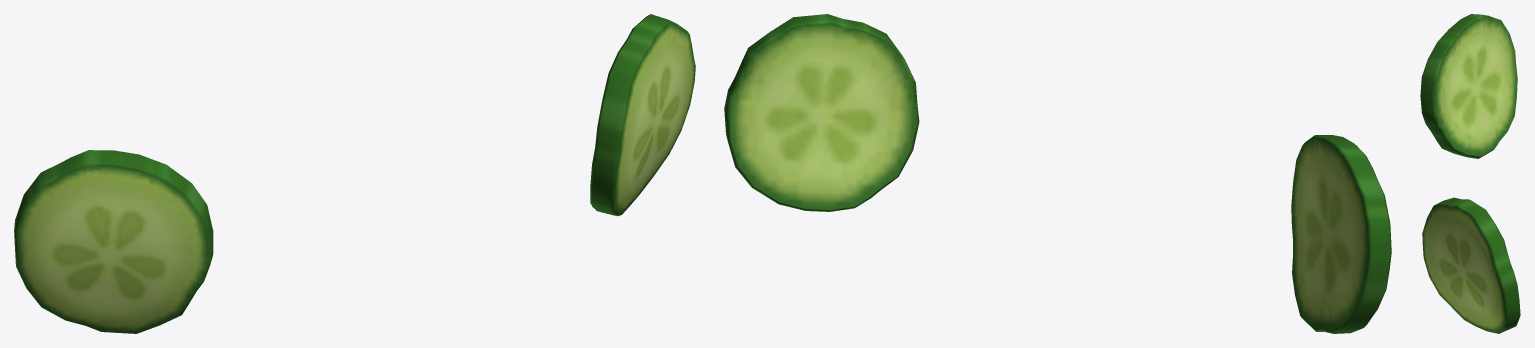
File: AccessoryMouthCucumber.glb
The picture shows the model from 3 angles, left to right: view 1: azimuth 30°, elevation 25°; view 2: azimuth 150°, elevation 25°; view 3: azimuth 270°, elevation 25°; orthographic projection. The views are drawn at different scales.
Parts seen in each view (by area): view 1: Accessory__mAccessory; view 2: Accessory__mAccessory; view 3: Accessory__mAccessory.
Boxes of the visible parts, x1=… form: Accessory__mAccessory: x1=14, y1=14, x2=695, y2=333; Accessory__mAccessory: x1=724, y1=14, x2=1391, y2=333; Accessory__mAccessory: x1=1420, y1=14, x2=1520, y2=333.
Size of the model in its own units: 5.12 by 1.34 by 0.9337.
Materials: 1 (1 with a texture image).
